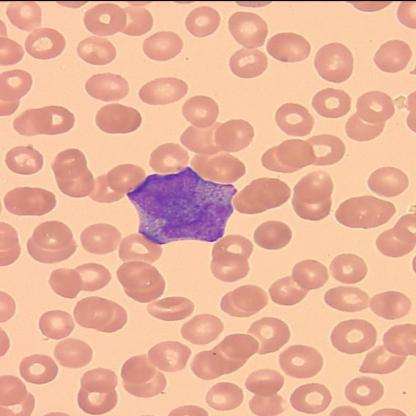Promyelocyte: (130, 167, 238, 245)
